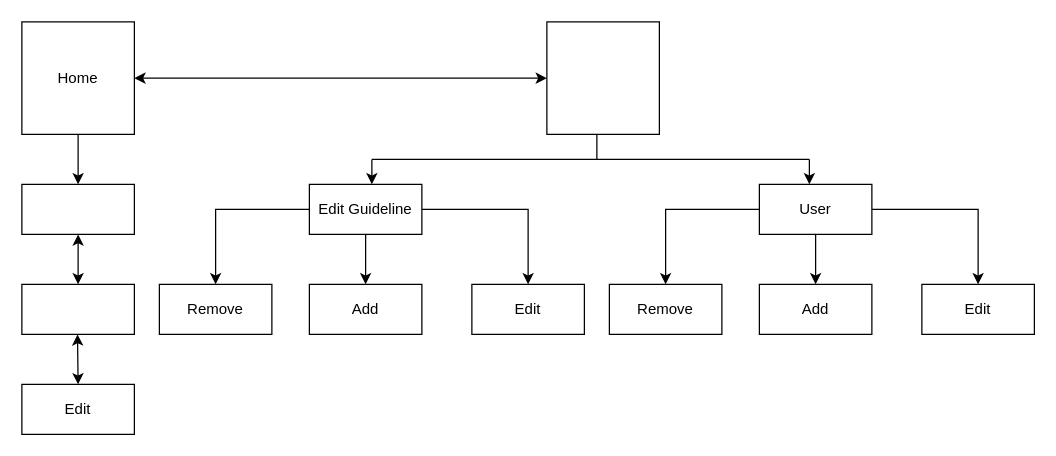
This 1056x456 diagram has some shape labels left out. Here are the shapes that lost their labels. From the top down, the box of each, then its label:
(546, 21, 659, 134): Admin Panel
(21, 183, 134, 234): Guideline List
(21, 283, 134, 334): Guideline
